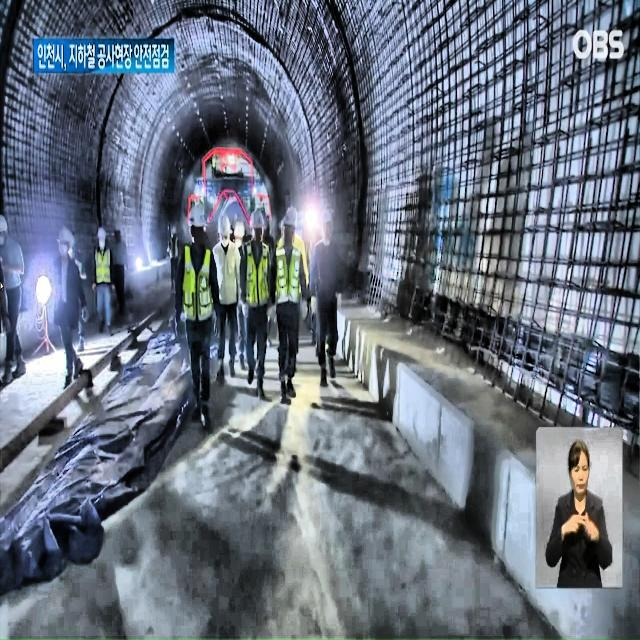safety_helmet: (189, 206, 205, 227), (283, 208, 297, 229), (219, 210, 231, 234), (56, 226, 70, 246), (251, 212, 265, 230), (321, 206, 332, 222), (0, 213, 8, 230), (236, 224, 246, 237), (96, 228, 106, 240)
safety_jacket: (181, 246, 213, 322), (244, 242, 269, 310), (278, 242, 304, 306), (94, 246, 112, 287), (170, 238, 179, 264)
